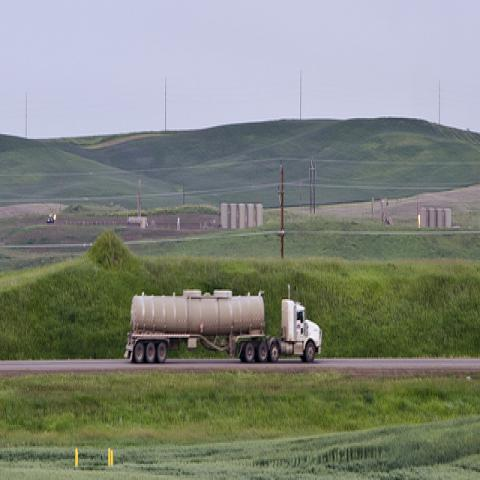truck: (126, 286, 322, 364)
